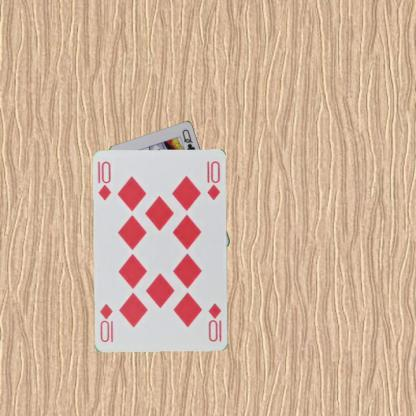10d: (206, 300, 223, 344), (96, 159, 113, 202)
